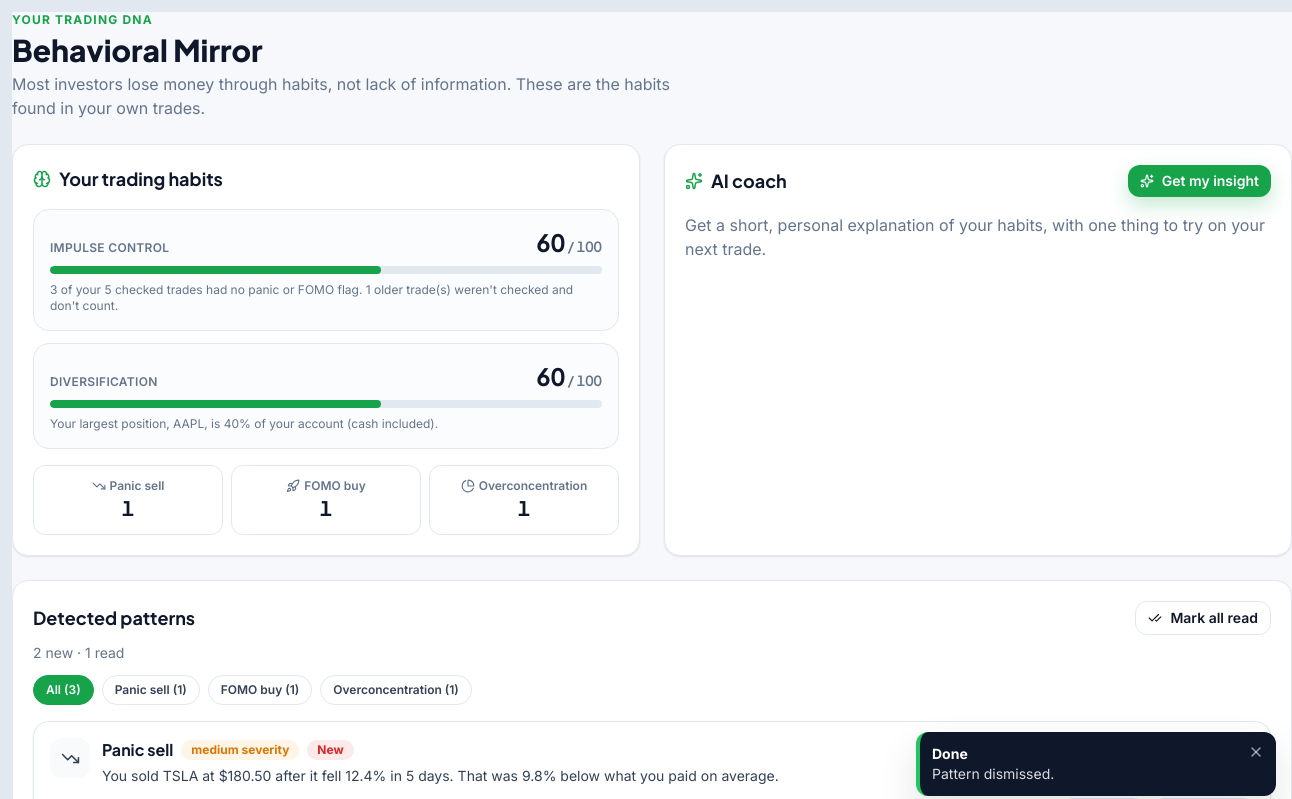
Scenario: Behavioral Mirror › Get my insight asks the AI coach and shows the answer
Click the button "Get my insight": (1199, 181) [1128,165,1271,197]
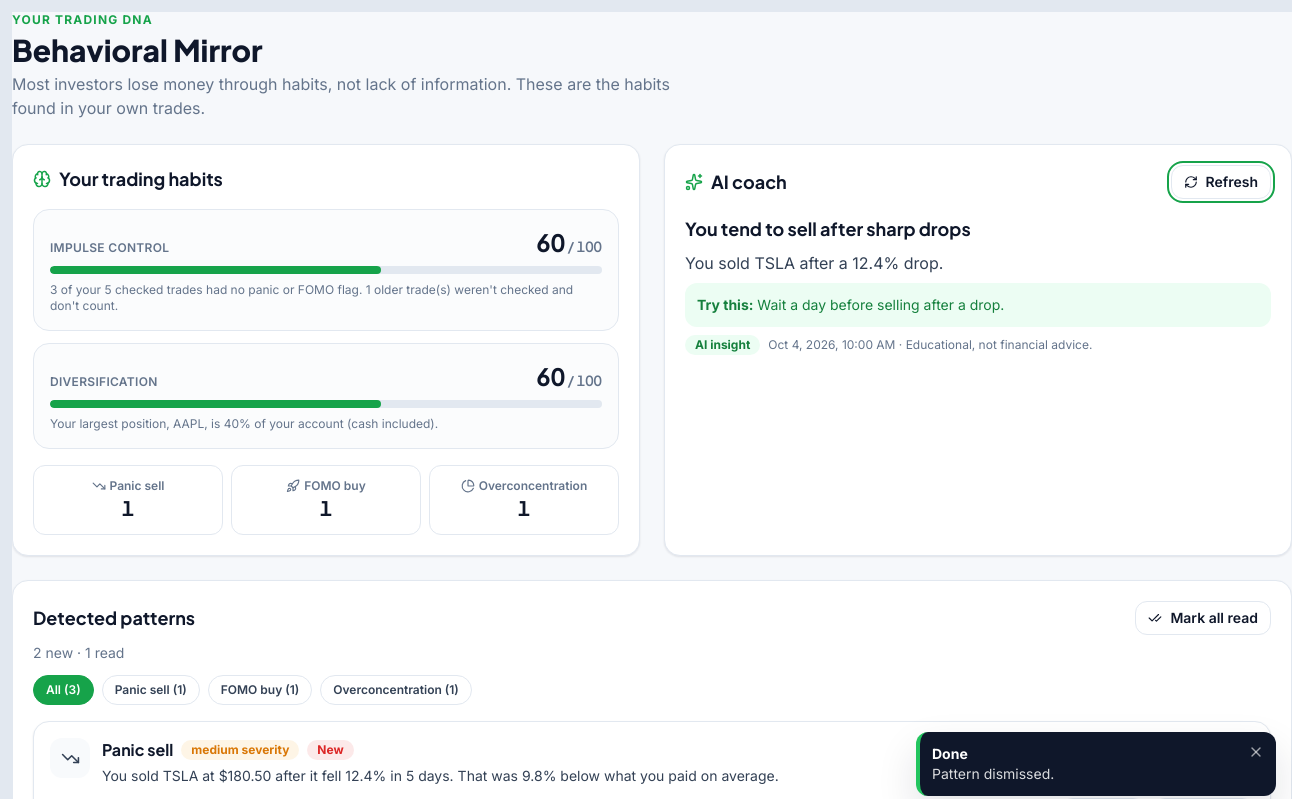
expect the element with test id "coach-insight" shows "You tend to sell after sharp drops": met, box [685,217,971,240]
expect the element with test id "coach-insight" shows "Try this: Wait a day before selling after a drop.": met, box [685,215,1271,355]
expect the text "AI insight" is shown: met, box [685,335,760,355]
